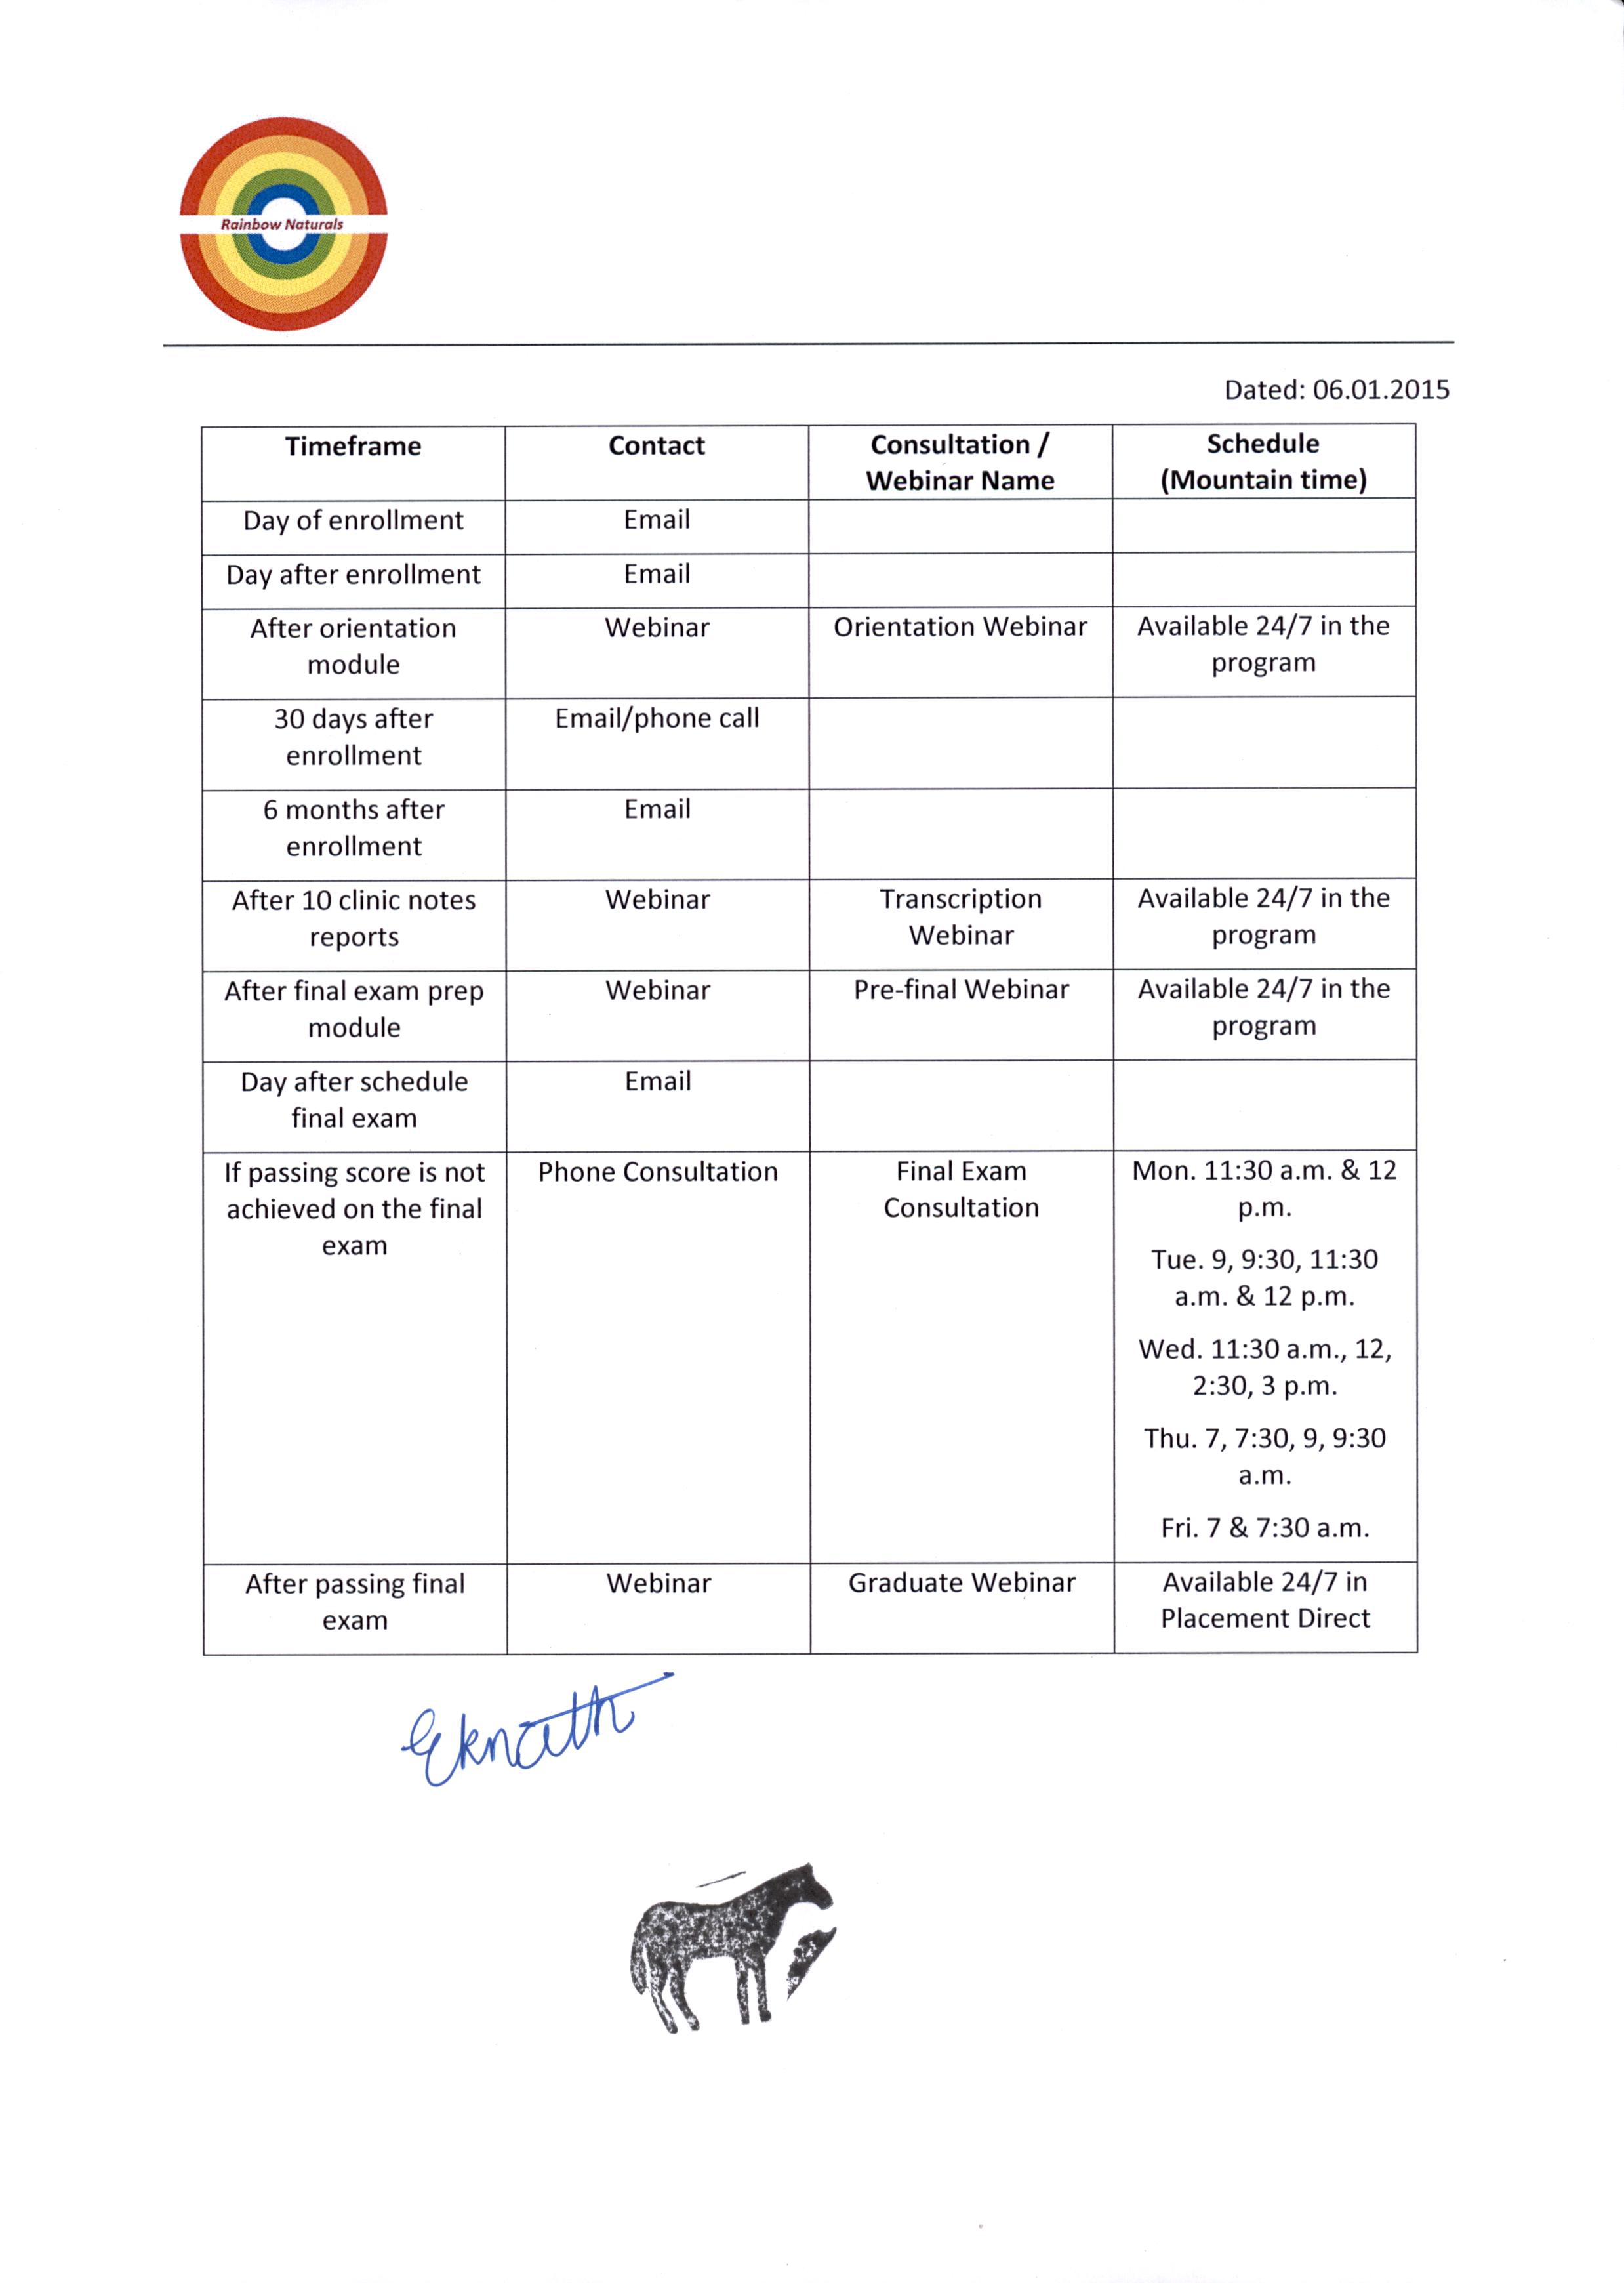Signature: (390, 1666, 682, 1794)
